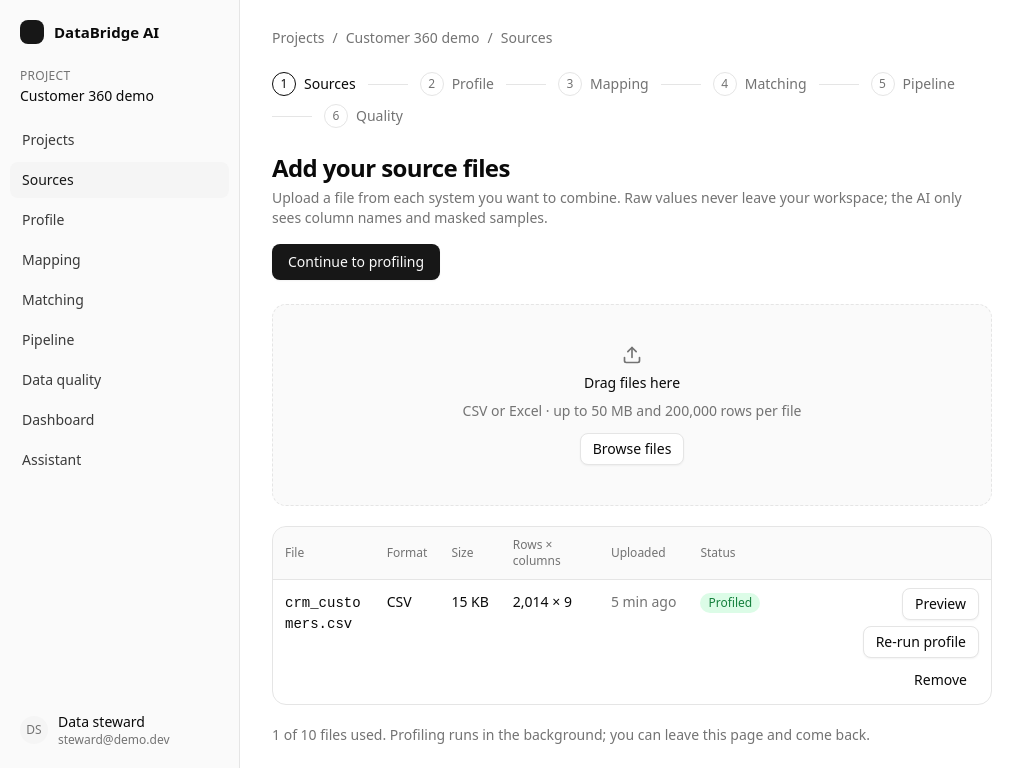
sources page › removes a file after confirmation
Click the button with aria-label "Remove crm_customers.csv" at (941, 680), box [902,664,979,696]
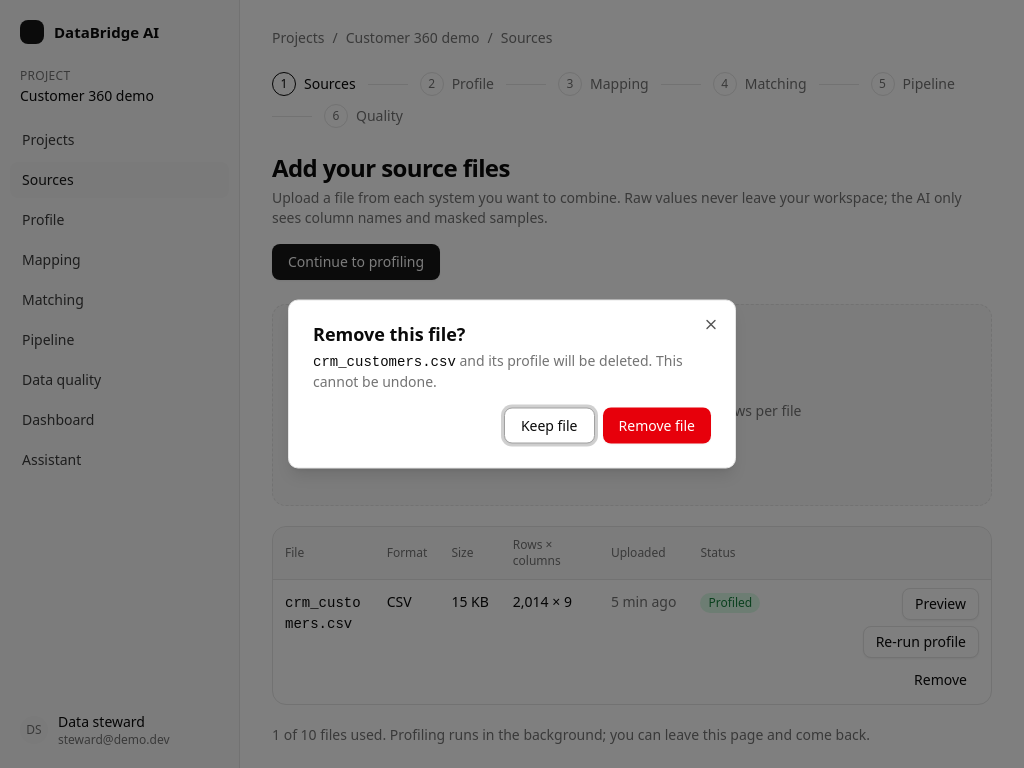
Click the button "Remove file" at (657, 426), box [602,408,711,444]
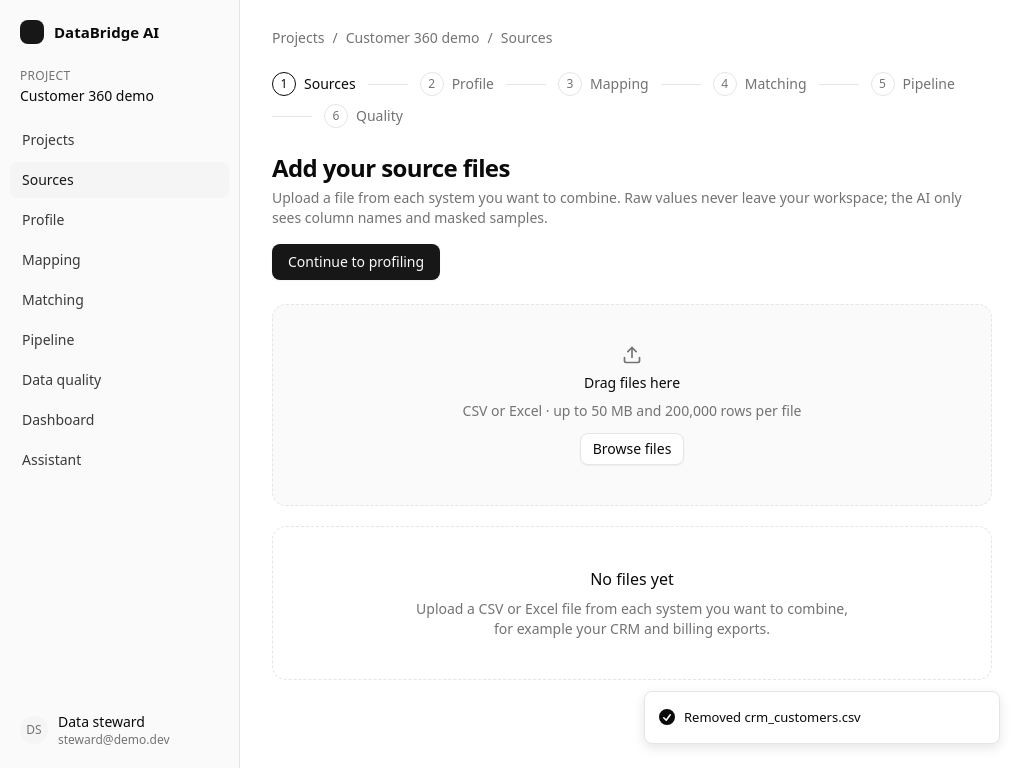
Check: the dialog is gone
Check: the heading "No files yet" is shown, box [590,567,674,591]
